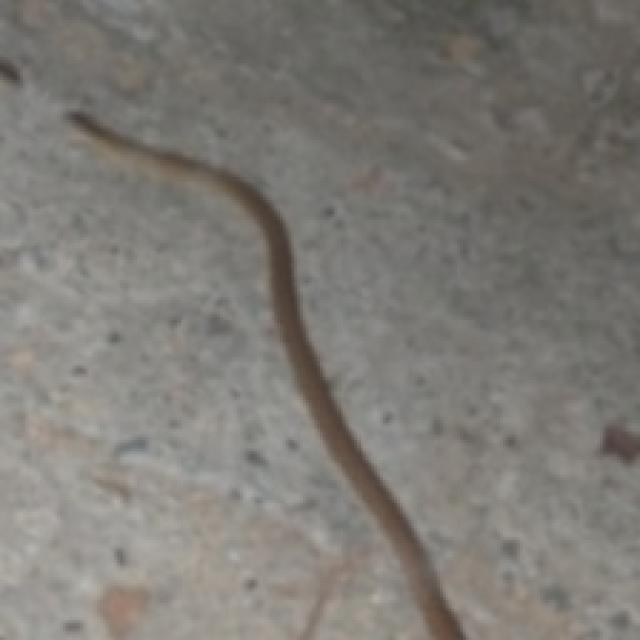gervais worm snake: (69, 111, 463, 637)
